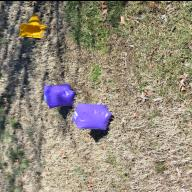cone: (19, 12, 47, 38)
cube: (72, 102, 112, 129), (43, 82, 76, 108)
